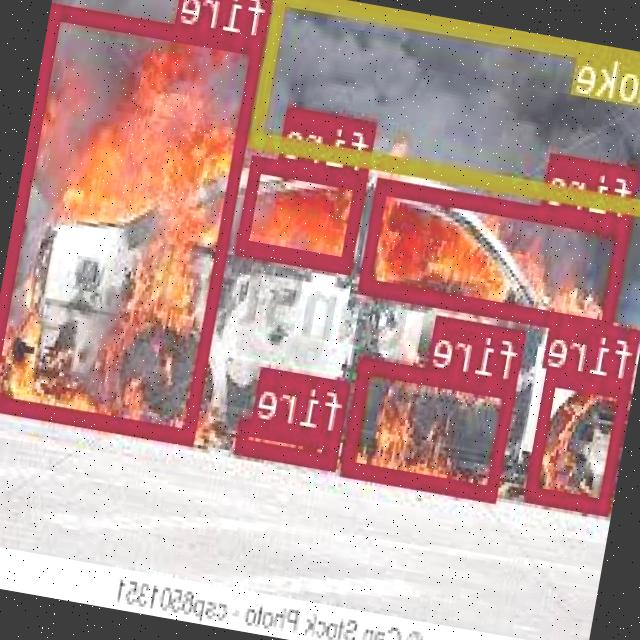fire: (0, 0, 266, 441), (362, 175, 632, 334), (342, 354, 518, 499), (528, 368, 634, 512), (238, 153, 368, 270), (236, 418, 343, 468)
smoke: (251, 0, 640, 214)
